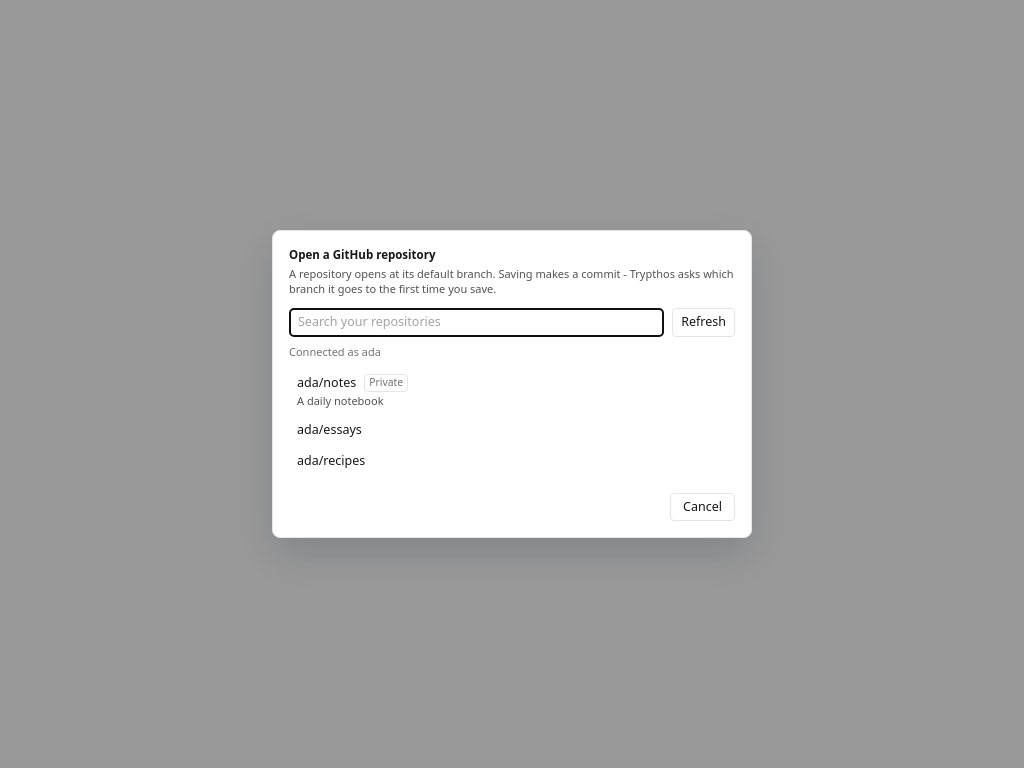
Test: OpenRepoDialog › says so when nothing matches, rather than showing an empty list
The image size is (1024, 768).
Check: the button "ada/notes Private A daily notebook" is shown, box [289,368,735,415]
Type "zzz" into the search field at (477, 323), box [289,308,664,337]
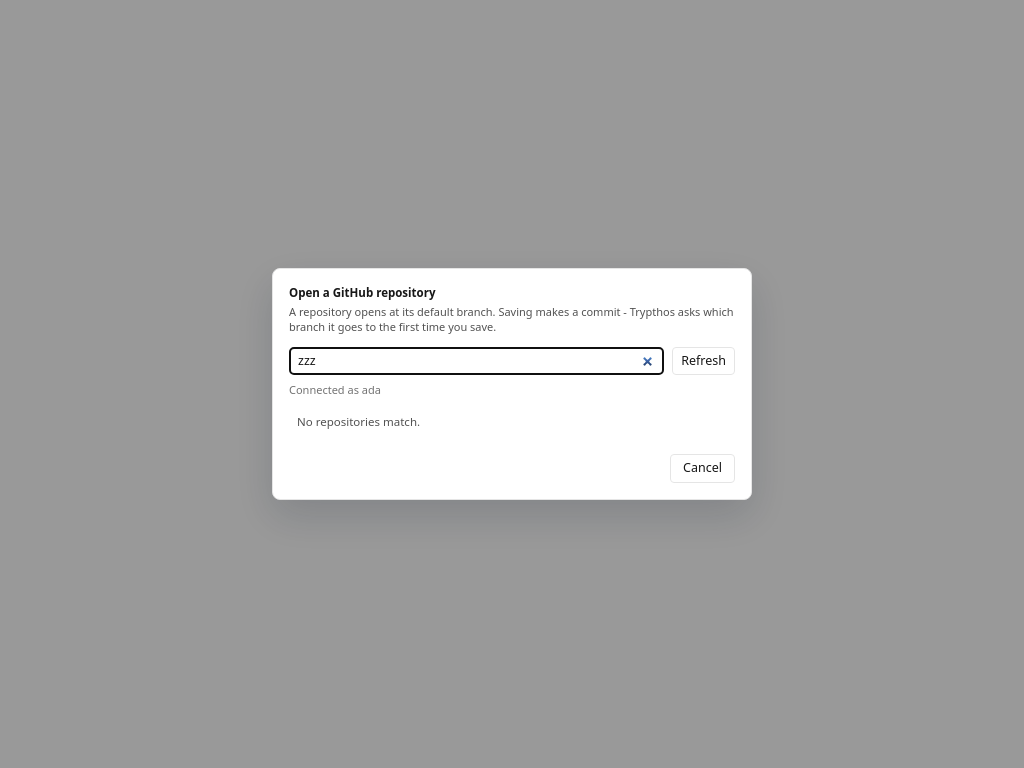
Check: the text "No repositories match." is shown, box [297,414,420,429]
